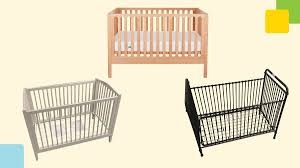crib: (185, 70, 287, 155), (23, 79, 120, 159), (108, 8, 207, 76)
